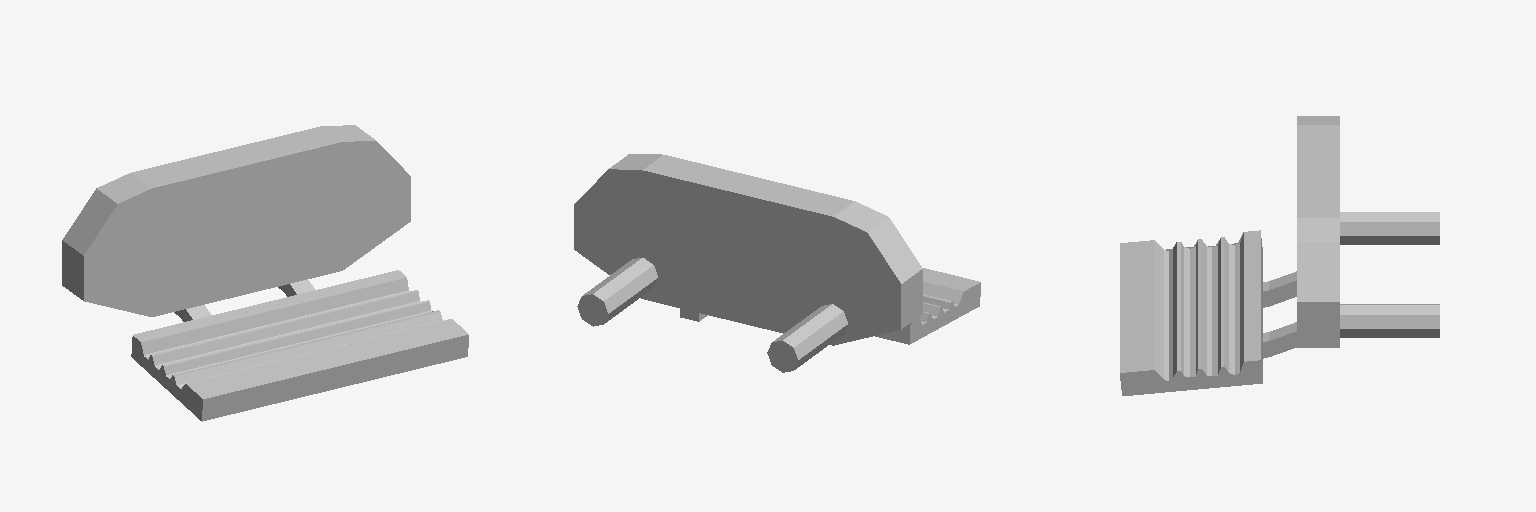
The model's file is Bench.obj.
3 renders of one model, left to right at view 1: azimuth 30°, elevation 25°; view 2: azimuth 150°, elevation 25°; view 3: azimuth 270°, elevation 25°, orthographic.
Visible parts, largest first — view 1: bench1; view 2: bench1; view 3: bench1.
Boxes of the visible parts, <box> form: bench1: <box>62,125,468,421</box>; bench1: <box>574,154,980,372</box>; bench1: <box>1120,116,1439,395</box>.
Bounding box in the file's own units: 171 × 84.6 × 146.